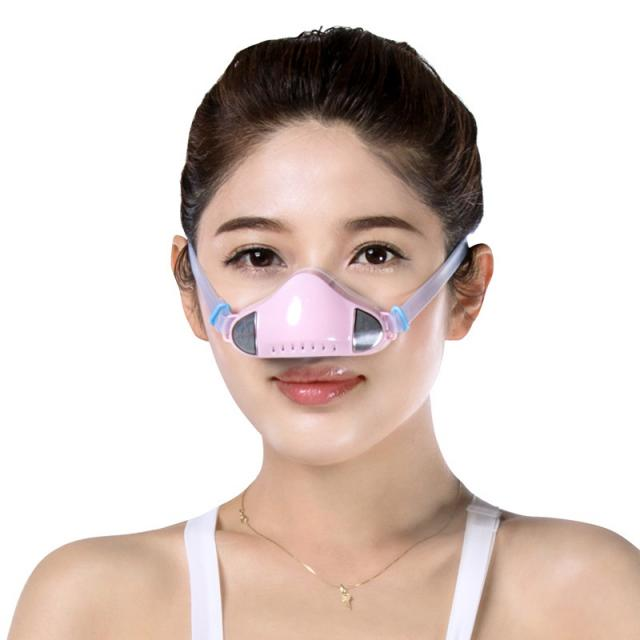mask: (194, 118, 446, 458)
